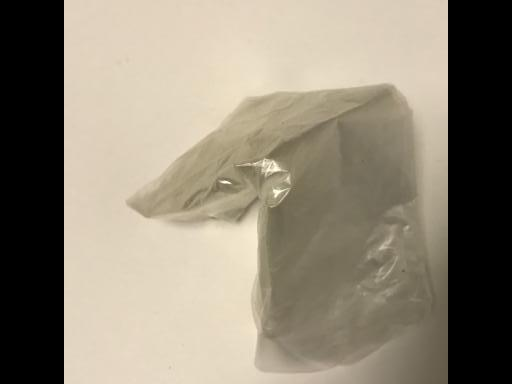trash: (126, 81, 434, 372)
